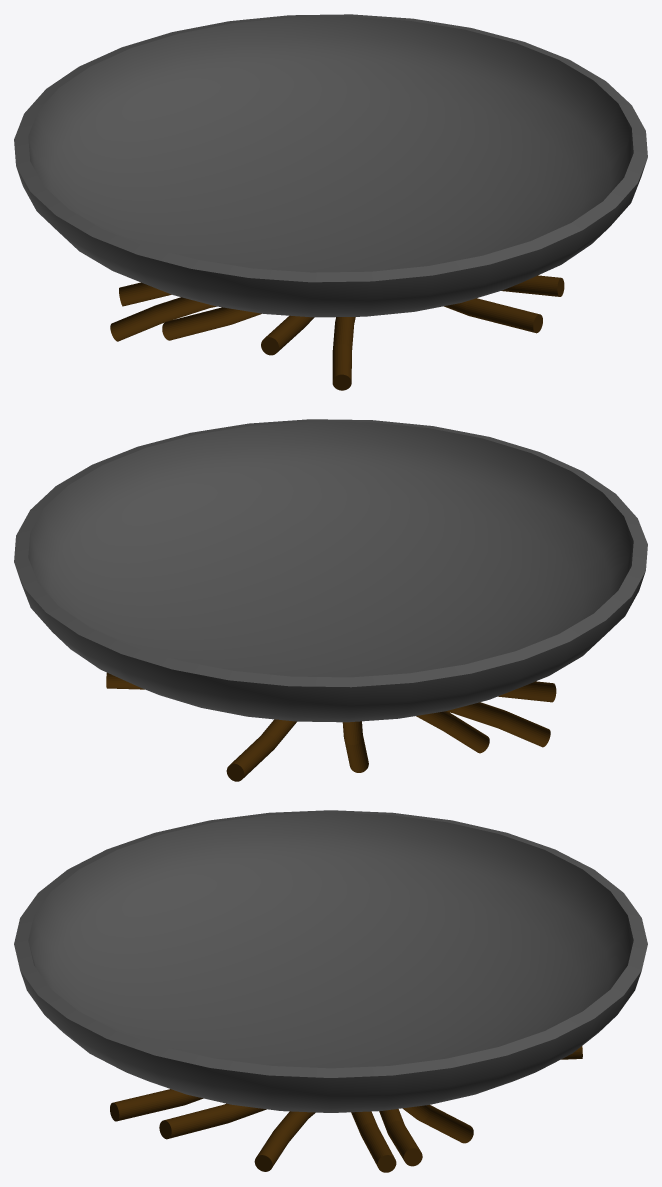
The model's file is Grill.dae.
3 views of the same model, one above another, from view 1: azimuth 30°, elevation 25°; view 2: azimuth 150°, elevation 25°; view 3: azimuth 270°, elevation 25° (orthographic).
Parts seen in each view (by area): view 1: Sphere, Cylinder; view 2: Sphere, Cylinder; view 3: Sphere, Cylinder.
Part boxes in pixels (x1=…): Sphere: x1=14, y1=14, x2=647, y2=317; Cylinder: x1=110, y1=275, x2=564, y2=390; Sphere: x1=14, y1=419, x2=647, y2=722; Cylinder: x1=106, y1=672, x2=556, y2=781; Sphere: x1=14, y1=810, x2=647, y2=1112; Cylinder: x1=110, y1=1046, x2=582, y2=1172.
Bounding box in the file's own units: 3.42 × 3.42 × 0.8861.
